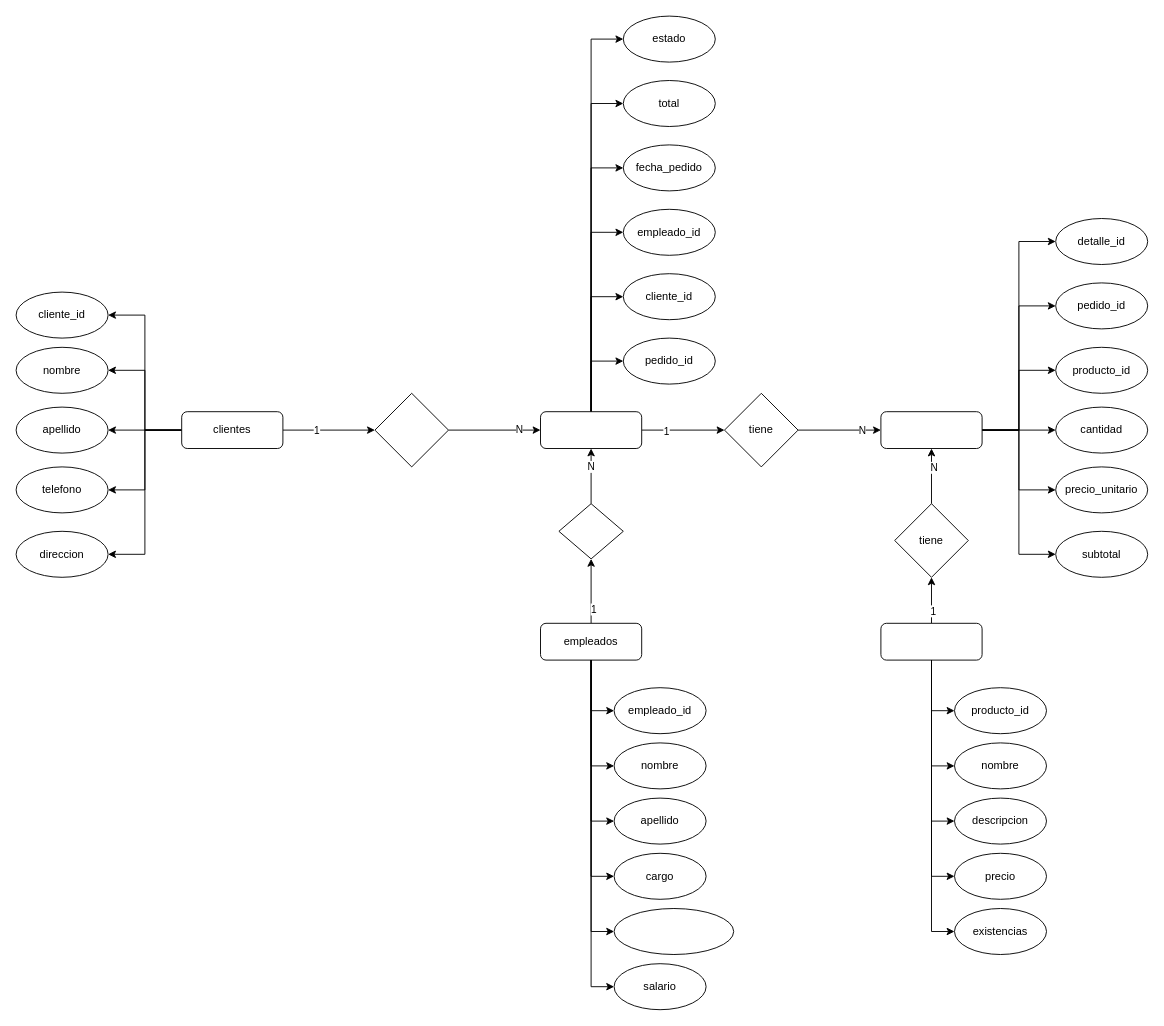
This 1164x1026 diagram has some shape labels left out. The shapes that lost their labels are listed below. From the top down, each one's centre as x and y in pixels, then its label:
At [411,429]: "puede hacer".
At [591,429]: "pedidos".
At [931,429]: "detalles_pedido".
At [590,531]: "Atiende".
At [931,641]: "productos".
At [673,931]: "fecha_contratacion".
